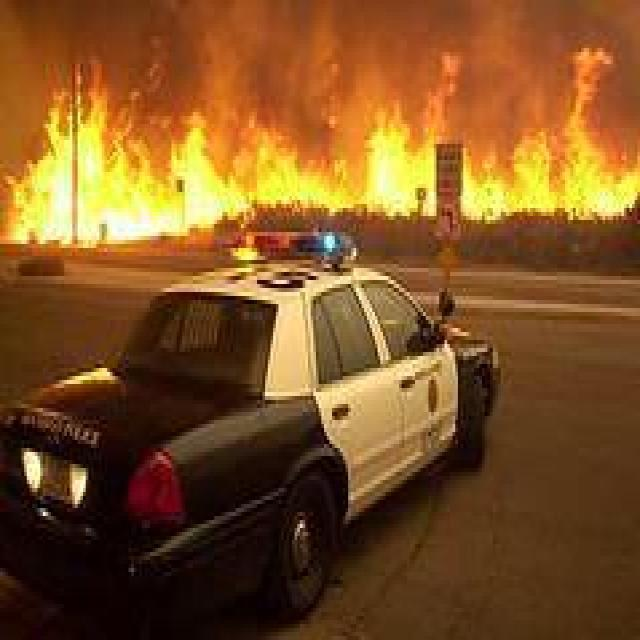Fire: (8, 24, 640, 252)
